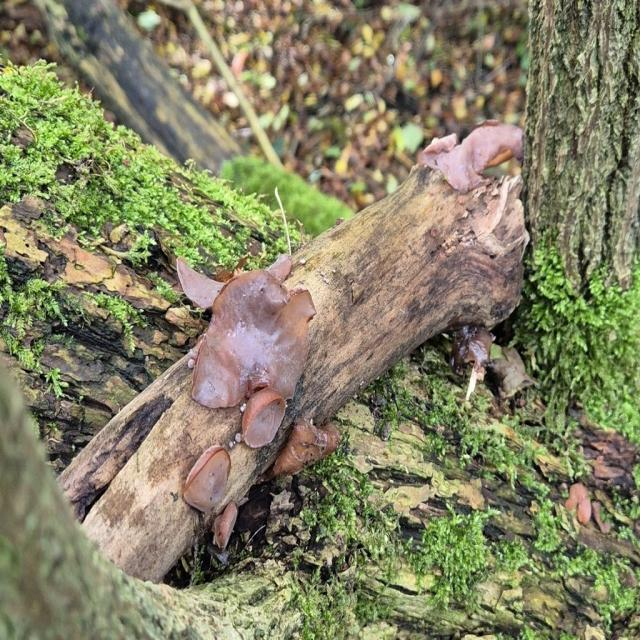Matang: (196, 262, 320, 446), (422, 111, 546, 193), (182, 440, 240, 554)
